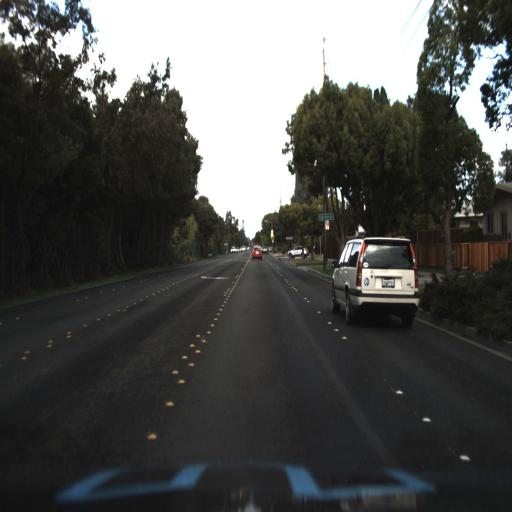car: (327, 226, 425, 338), (286, 240, 310, 260), (249, 237, 265, 265)
